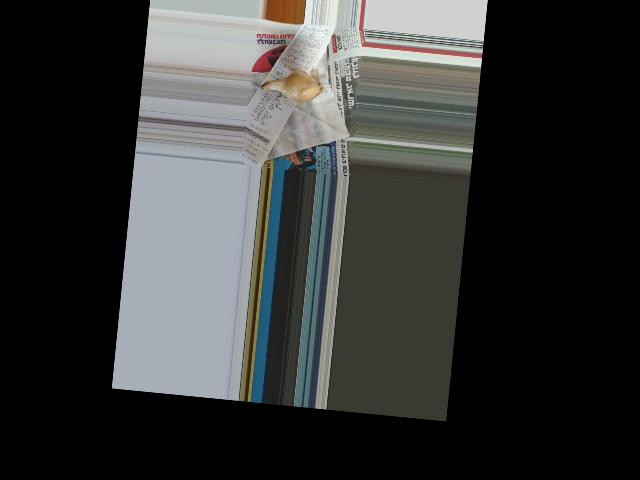onion: (275, 72, 318, 103)
